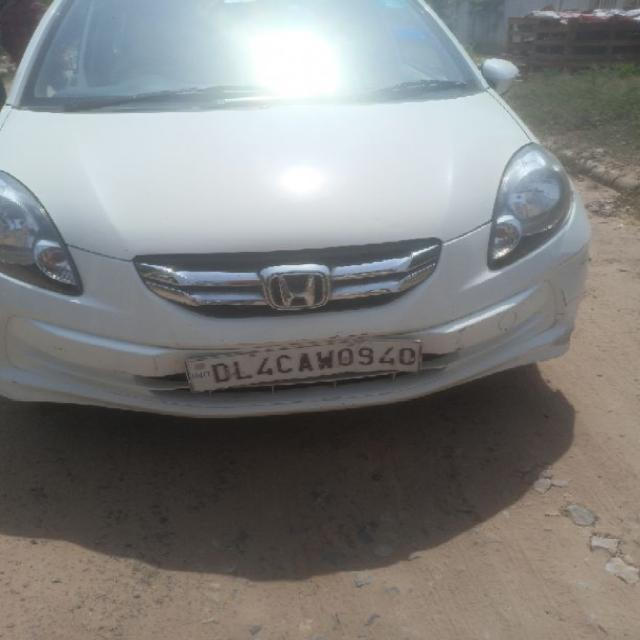license_plate: (182, 335, 422, 394)
